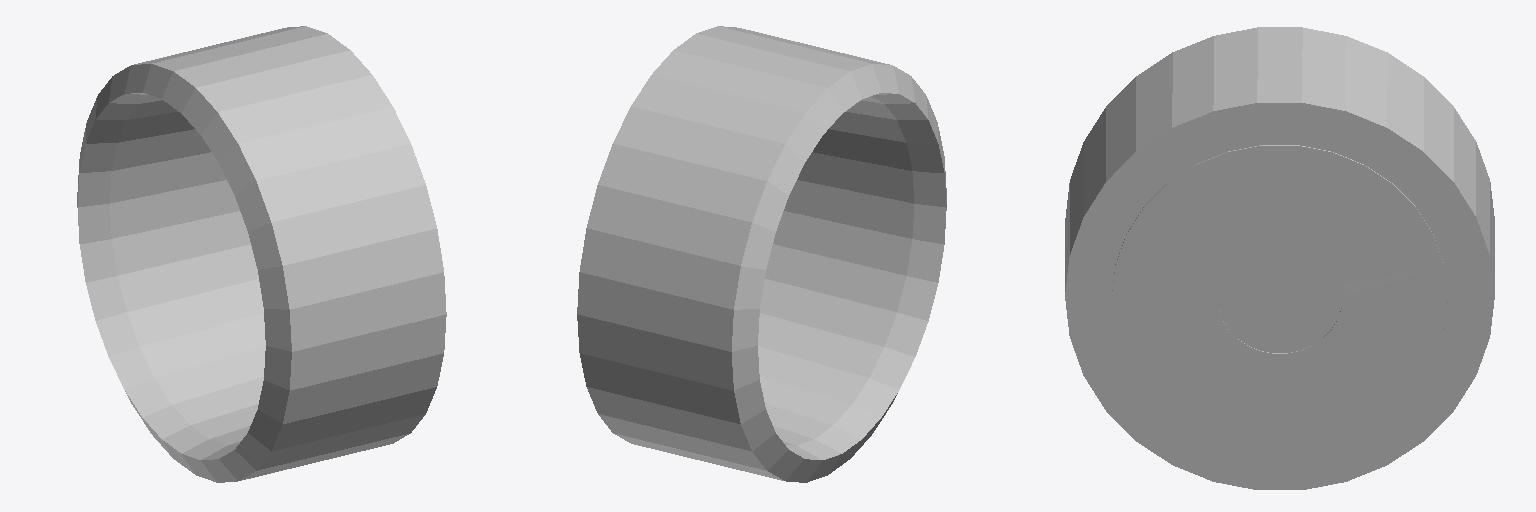
The model's file is cerchionePosteriore1B.obj.
3 renders of one model, left to right at view 1: azimuth 30°, elevation 25°; view 2: azimuth 150°, elevation 25°; view 3: azimuth 270°, elevation 25°, orthographic.
Visible parts, largest first — view 1: Cylinder35; view 2: Cylinder35; view 3: Cylinder35.
Part boxes in pixels (x1,y1,x2,y2): Cylinder35: (77, 26, 446, 482); Cylinder35: (577, 26, 946, 482); Cylinder35: (1065, 27, 1494, 489).
Size of the model in its own units: 3 by 6.59 by 6.62.